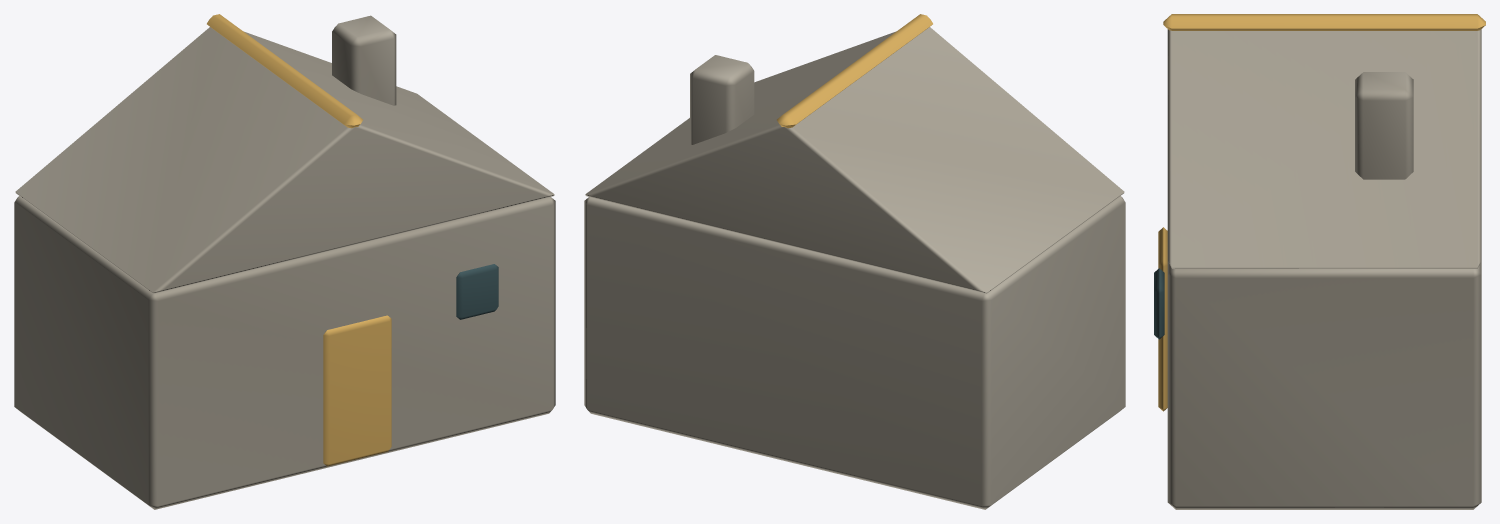
File: default_homestead.glb
3 views of the same model, side by side, from view 1: azimuth 30°, elevation 25°; view 2: azimuth 150°, elevation 25°; view 3: azimuth 270°, elevation 25° (orthographic). The views are drawn at different scales.
Parts seen in each view (by area): view 1: WoodBody, BrassTrim, FixedDetails; view 2: WoodBody, BrassTrim; view 3: WoodBody, BrassTrim, FixedDetails.
Boxes of the visible parts, left/top/right/bottom form: WoodBody: left=14, top=15, right=555, bottom=509; BrassTrim: left=207, top=14, right=391, bottom=466; FixedDetails: left=456, top=264, right=498, bottom=319; WoodBody: left=584, top=27, right=1125, bottom=509; BrassTrim: left=777, top=14, right=932, bottom=128; WoodBody: left=1167, top=29, right=1481, bottom=509; BrassTrim: left=1158, top=14, right=1485, bottom=411; FixedDetails: left=1154, top=268, right=1164, bottom=339.
Bounding box in the file's own units: 0.25 × 0.204 × 0.1585.
